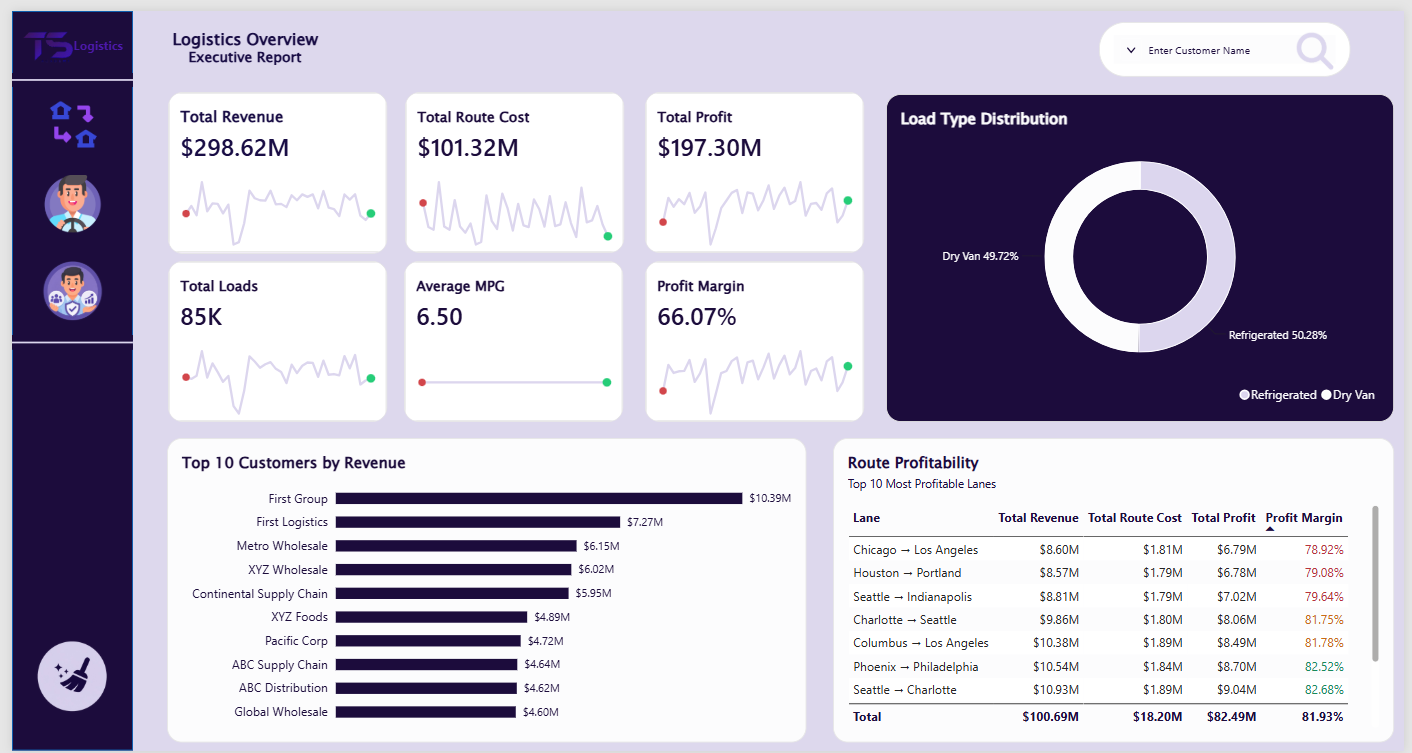

The page's visual inventory and layout, read from the dashboard file:
{"tool":"powerbi","page":{"name":"Executive Dashboard","canvas":[1600,850],"ordinal":0},"visuals":[{"type":"shape","box":[0,0,139,850],"z":0,"group":"g2"},{"type":"group","id":"g1","title":"Group 1","box":[165,20,205,55],"z":0,"group":"g6"},{"type":"textbox","box":[165,20,205,31],"z":0,"group":"g1"},{"type":"textbox","box":[70,30,58,21],"z":1000,"group":"g4"},{"type":"textbox","box":[179,41,177,34],"z":1000,"group":"g1"},{"type":"shape","box":[0,72,139,16],"z":1000,"group":"g5"},{"type":"cardVisual","fields":{"Data":["Customer Analysis Measures.Total Revenue"]},"box":[178.9,93.3,252.2,185.6],"z":1000,"group":"g6"},{"type":"cardVisual","fields":{"Data":["Route profitability Measures.Total Route Cost"]},"box":[452.2,93.3,252,185],"z":2000,"group":"g6"},{"type":"image","box":[29,189,82,66],"z":2000,"group":"g5"},{"type":"cardVisual","fields":{"Data":["Route profitability Measures.Total Profit"]},"box":[727.8,93.3,252.2,185],"z":3000,"group":"g6"},{"type":"image","box":[41,96,58,70],"z":3000,"group":"g5"},{"type":"image","box":[7,20,74,42],"z":4000,"group":"g4"},{"type":"cardVisual","fields":{"Data":["Route profitability Measures.Profit Margin"]},"box":[727.8,287.8,252.2,185],"z":4000,"group":"g6"},{"type":"image","box":[31,288,77,69],"z":4000,"group":"g5"},{"type":"cardVisual","fields":{"Data":["Customer Analysis Measures.Total Loads"]},"box":[178.9,287.8,252.2,185],"z":5000,"group":"g6"},{"type":"shape","box":[0,372.4,139.1,17.2],"z":5000,"group":"g5"},{"type":"cardVisual","fields":{"Data":["Driver Performance Measures (3).Average MPG"]},"box":[451.1,287.8,252.2,185],"z":6000,"group":"g6"},{"type":"tableEx","title":"Route Profitability","fields":{"Values":["routes.Lane","Customer Analysis Measures.Total Revenue","Route profitability Measures.Total Route Cost","Route profitability Measures.Total Profit","Route profitability Measures.Profit Margin"]},"box":[943.7,490.8,645.5,350],"z":7000,"group":"g6"},{"type":"clusteredBarChart","title":"Top 10 Customers by Revenue","fields":{"Category":["customers.customer_name"],"Y":["Customer Analysis Measures.Total Customer Revenue"]},"box":[178.4,490.9,735.2,350],"z":8000,"group":"g6"},{"type":"donutChart","title":"Load Type Distribution","fields":{"Y":["Customer Analysis Measures.Total Loads"],"Category":["loads.load_type"]},"box":[1004.5,95.5,584.1,377.3],"z":9000,"group":"g6"},{"type":"group","id":"g2","title":"Group 4","box":[0,0,139.1,850],"z":10000,"group":"g6"},{"type":"group","id":"g3","title":"Group 5","box":[1249.4,12.6,288.5,63.2],"z":11000,"group":"g6"},{"type":"textSlicer","fields":{"Values":["customers.customer_name"]},"box":[1249.4,12.6,288.5,63.2],"z":16000,"group":"g3"},{"type":"image","box":[1457.4,19.5,80.5,50.6],"z":17000,"group":"g3"},{"type":"image","box":[11.5,716.1,116.1,97.7],"z":18000,"group":"g5"},{"type":"group","id":"g4","title":"Group 2","box":[7,20,121,42],"z":19000,"group":"g5"},{"type":"group","id":"g5","title":"Group 3","box":[0,20,139.1,793.8],"z":19001,"group":"g2"},{"type":"group","id":"g6","title":"Group 6","box":[0,0,1589.1,850],"z":19004}]}

Visuals, with their boxes on the page's 1600x850 design canvas (x1, y1, x2, y2). These are canvas units, not pixel positions in the 1412x753 screenshot, which may show the page scaled, cropped or inside an application window:
shape: box(0, 0, 139, 850)
"Group 1" group: box(165, 20, 370, 75)
textbox: box(165, 20, 370, 51)
textbox: box(70, 30, 128, 51)
textbox: box(179, 41, 356, 75)
shape: box(0, 72, 139, 88)
cardVisual - Customer Analysis Measures.Total Revenue: box(179, 93, 431, 279)
cardVisual - Route profitability Measures.Total Route Cost: box(452, 93, 704, 278)
image: box(29, 189, 111, 255)
cardVisual - Route profitability Measures.Total Profit: box(728, 93, 980, 278)
image: box(41, 96, 99, 166)
image: box(7, 20, 81, 62)
cardVisual - Route profitability Measures.Profit Margin: box(728, 288, 980, 473)
image: box(31, 288, 108, 357)
cardVisual - Customer Analysis Measures.Total Loads: box(179, 288, 431, 473)
shape: box(0, 372, 139, 390)
cardVisual - Driver Performance Measures (3).Average MPG: box(451, 288, 703, 473)
"Route Profitability" tableEx: box(944, 491, 1589, 841)
"Top 10 Customers by Revenue" clusteredBarChart: box(178, 491, 914, 841)
"Load Type Distribution" donutChart: box(1004, 96, 1589, 473)
"Group 4" group: box(0, 0, 139, 850)
"Group 5" group: box(1249, 13, 1538, 76)
textSlicer - customers.customer_name: box(1249, 13, 1538, 76)
image: box(1457, 20, 1538, 70)
image: box(12, 716, 128, 814)
"Group 2" group: box(7, 20, 128, 62)
"Group 3" group: box(0, 20, 139, 814)
"Group 6" group: box(0, 0, 1589, 850)
